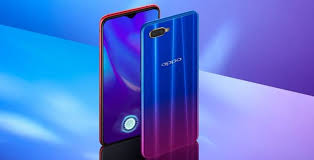oppo: (139, 10, 204, 158)
